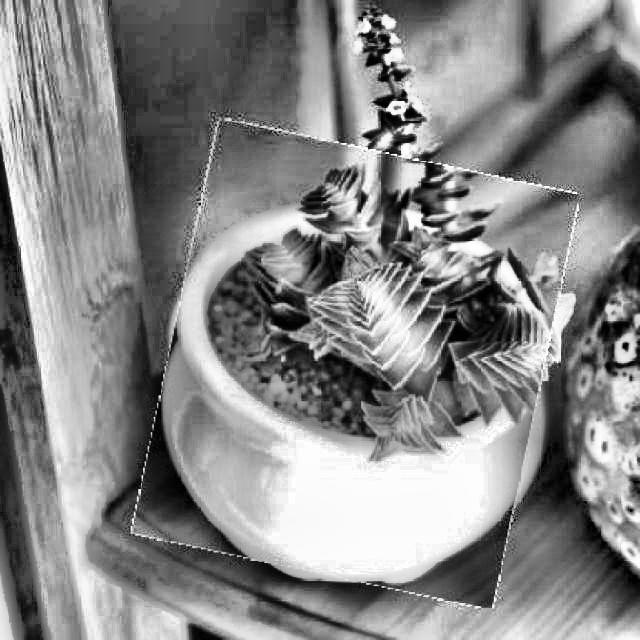plants: (151, 135, 560, 594)
